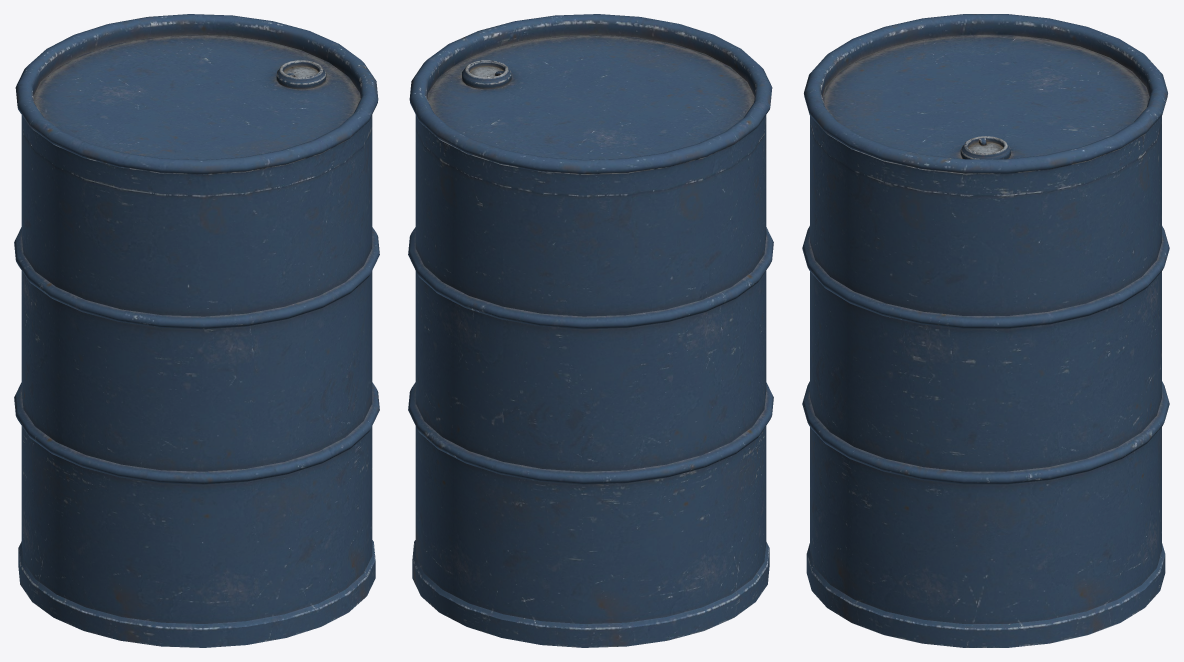
Rendered from a1-drum.glb.
3 renders of one model, left to right at view 1: azimuth 30°, elevation 25°; view 2: azimuth 150°, elevation 25°; view 3: azimuth 270°, elevation 25°, orthographic.
Parts seen in each view (by area): view 1: barrel_03; view 2: barrel_03; view 3: barrel_03.
Part boxes in pixels (x1,y1,x2,y2): barrel_03: (14, 14, 379, 647); barrel_03: (408, 14, 773, 647); barrel_03: (802, 14, 1169, 647).
Bounding box in the file's own units: 0.634 × 0.9305 × 0.6386.
Materials: 1 (1 with a texture image).
